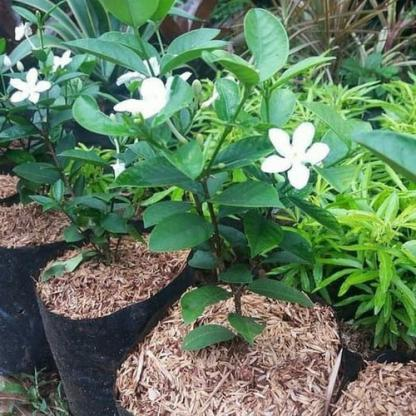Melati: (265, 122, 340, 195), (116, 70, 195, 130), (16, 61, 58, 111)
